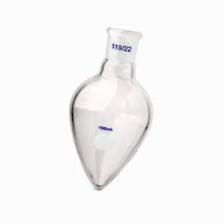Pear shaped flask: (64, 19, 153, 191)
